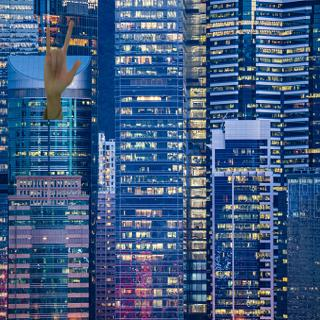ILY: (131, 35, 316, 270)
